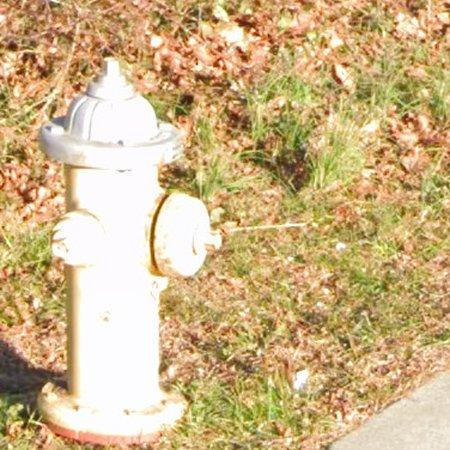a fire hydrant: (39, 58, 220, 444)
